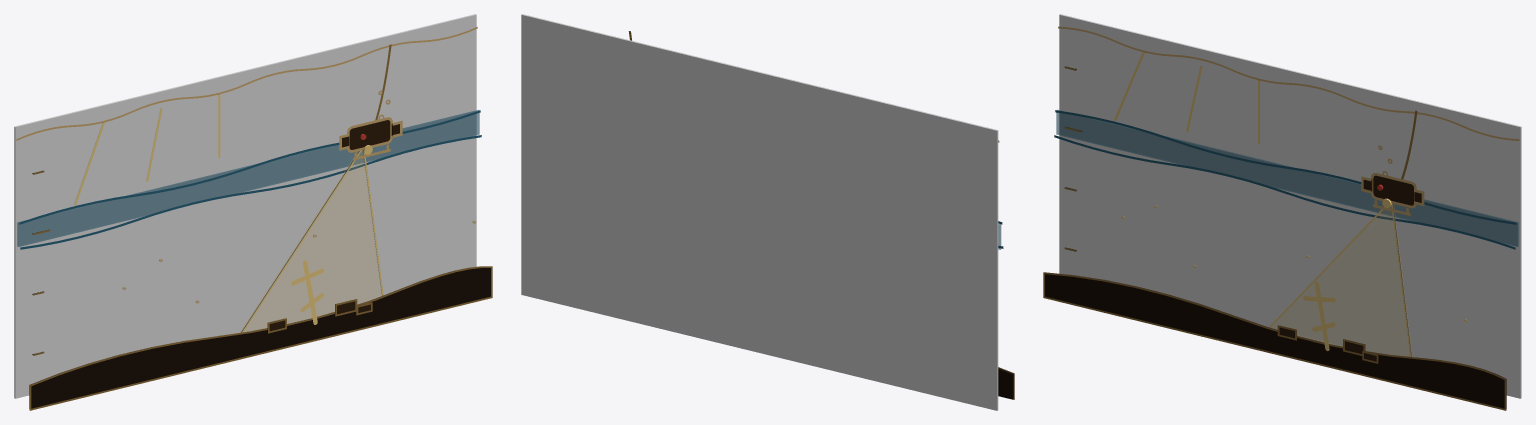
File: loc-issyk-kul-underwater.glb
3 renders of one model, left to right at view 1: azimuth 30°, elevation 25°; view 2: azimuth 150°, elevation 25°; view 3: azimuth 330°, elevation 25°, orthographic. The views are drawn at different scales.
Visible parts, largest first — view 1: loc-issyk-kul-underwater; view 2: loc-issyk-kul-underwater; view 3: loc-issyk-kul-underwater.
Part boxes in pixels (x1=…): loc-issyk-kul-underwater: x1=14, y1=14, x2=492, y2=410; loc-issyk-kul-underwater: x1=521, y1=14, x2=1014, y2=410; loc-issyk-kul-underwater: x1=1043, y1=14, x2=1521, y2=410.
Size of the model in its own units: 5.35 by 3.01 by 0.56.
